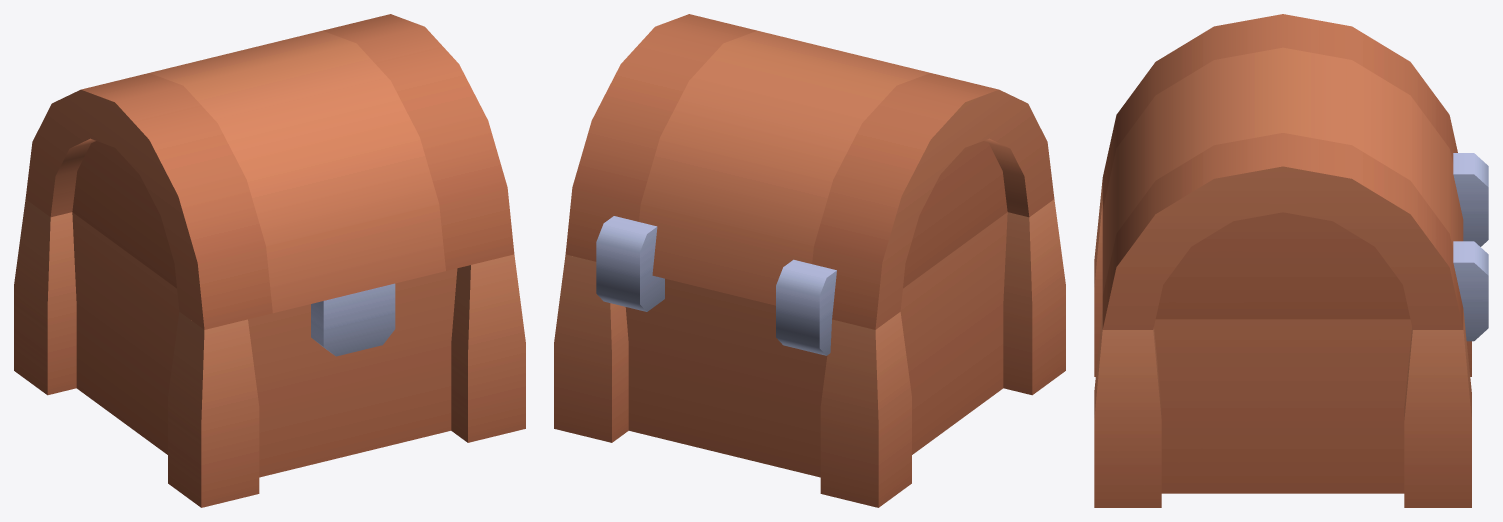
File: surv.chest.glb
3 renders of one model, left to right at view 1: azimuth 30°, elevation 25°; view 2: azimuth 150°, elevation 25°; view 3: azimuth 270°, elevation 25°, orthographic.
Visible parts, largest first — view 1: lid, chest; view 2: lid, chest; view 3: lid, chest.
Part boxes in pixels (x1,y1,x2,y2): lid: (25,14,514,356); chest: (14,199,525,507); lid: (565,14,1054,329); chest: (554,199,1065,507); lid: (1102,14,1463,329); chest: (1094,153,1488,507).
Bounding box in the file's own units: 0.6813 × 0.6729 × 0.7117.
Materials: 1 (1 with a texture image).
